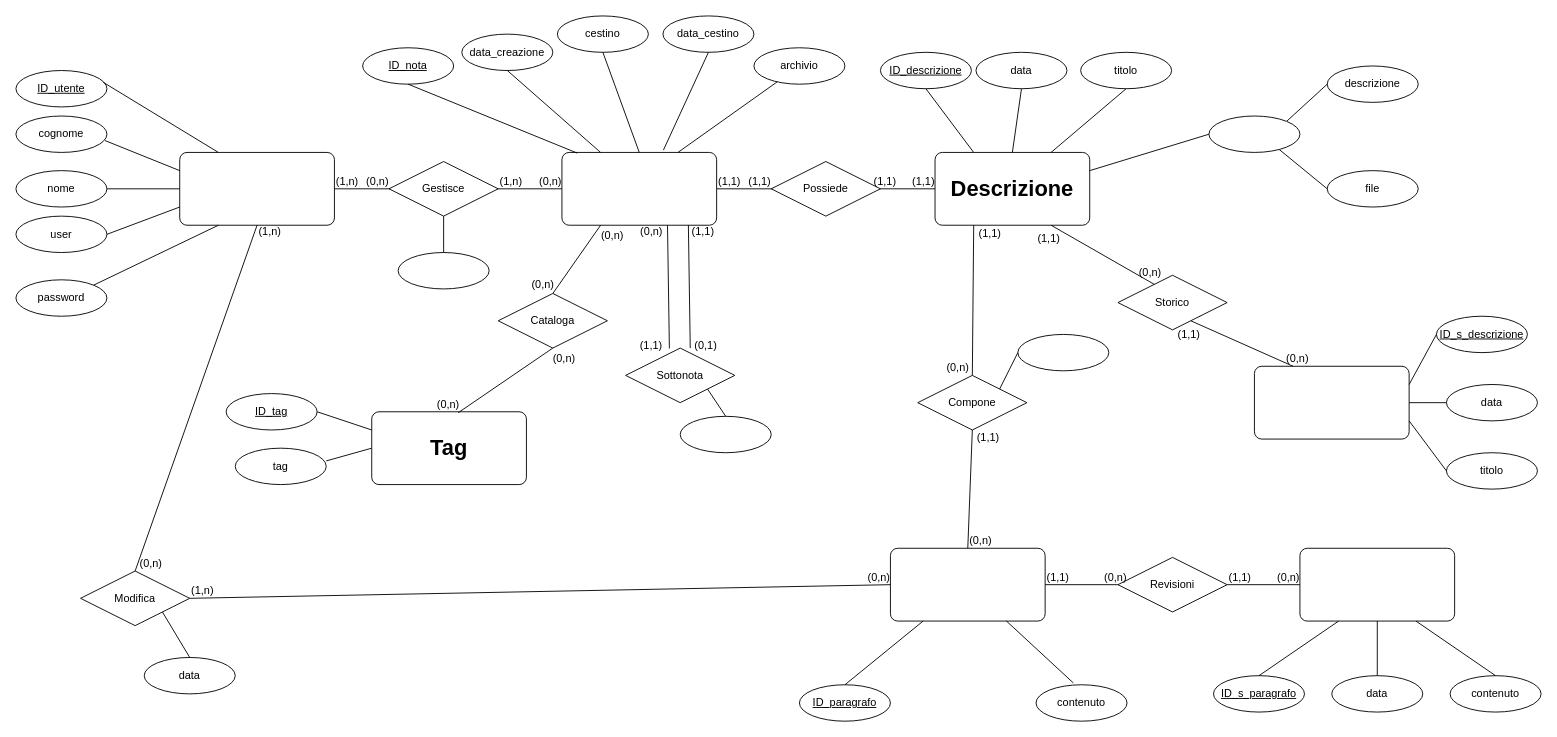
Some shapes in this 1557 by 737 pixel diagram are drawn without their labels. The shapes that lost their labels are listed below. From the top down, each one's centre as x and y in pixels, then its label:
pixel 1254 133: Allegato
pixel 256 188: Utente
pixel 639 188: Nota
pixel 443 270: privilegi
pixel 1063 352: posizione
pixel 1331 402: Storico_Descrizioni
pixel 725 434: livello
pixel 967 584: Paragrafo
pixel 1377 584: Storico_Paragrafi
